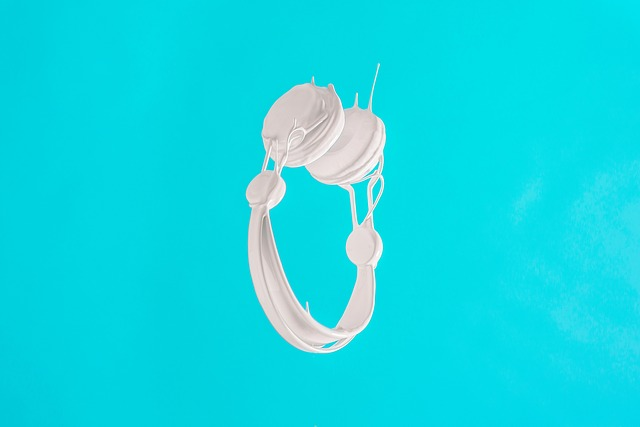headphones: (246, 83, 386, 355)
